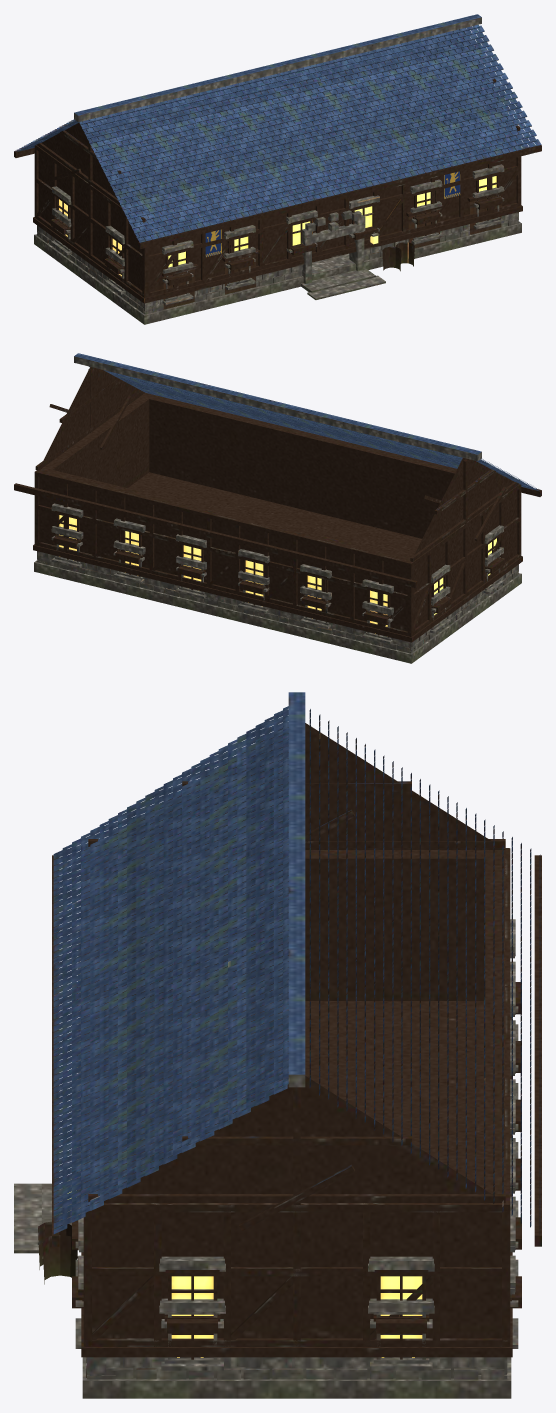
File: bld_stables_card.glb
The picture shows the model from 3 angles, top to bottom: view 1: azimuth 30°, elevation 25°; view 2: azimuth 150°, elevation 25°; view 3: azimuth 270°, elevation 25°; orthographic projection. The views are drawn at different scales.
Visible parts, largest first — view 1: stables_card; view 2: stables_card; view 3: stables_card.
Part boxes in pixels (x1,y1,x2,y2): stables_card: (14,14,541,324); stables_card: (14,353,541,663); stables_card: (14,692,541,1398).
Size of the model in its own units: 35.07 by 13.6 by 19.35.
Materials: 1 (1 with a texture image).
